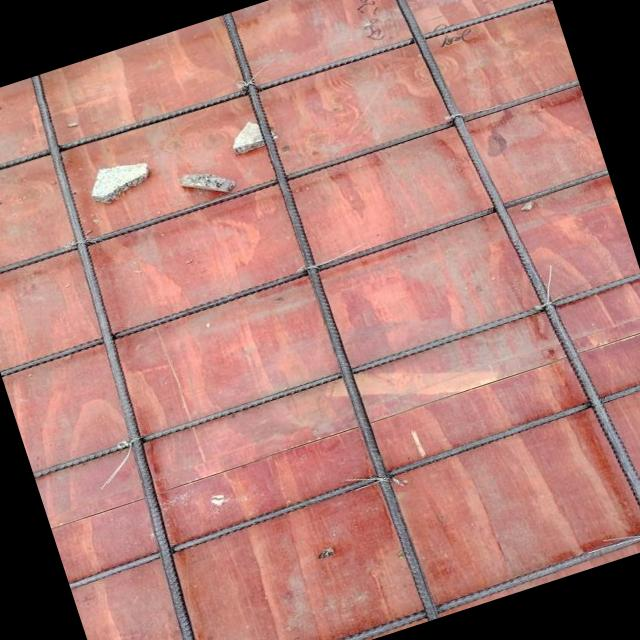ribbed bar: (379, 0, 640, 572), (222, 8, 443, 623), (0, 73, 239, 640), (0, 168, 611, 378), (65, 370, 640, 590), (33, 271, 640, 478), (0, 79, 580, 284), (0, 0, 553, 199), (109, 506, 640, 640)
